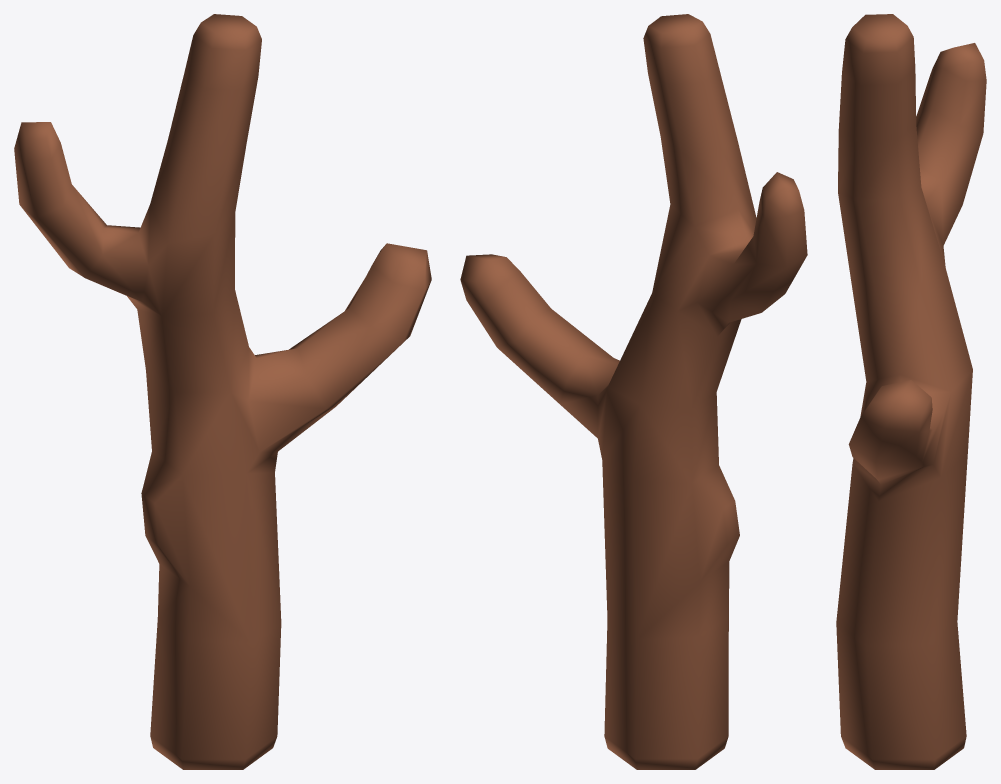
Rendered from Tree_Btm_D_02_LOD2.gltf.
The picture shows the model from 3 angles, left to right: view 1: azimuth 30°, elevation 25°; view 2: azimuth 150°, elevation 25°; view 3: azimuth 270°, elevation 25°; orthographic projection. The views are drawn at different scales.
Parts seen in each view (by area): view 1: Tree_Btm_D_02_LOD2_Cylinder.668; view 2: Tree_Btm_D_02_LOD2_Cylinder.668; view 3: Tree_Btm_D_02_LOD2_Cylinder.668.
Boxes of the visible parts, bbox=[...] form: Tree_Btm_D_02_LOD2_Cylinder.668: bbox=[14, 14, 431, 769]; Tree_Btm_D_02_LOD2_Cylinder.668: bbox=[460, 14, 807, 769]; Tree_Btm_D_02_LOD2_Cylinder.668: bbox=[836, 14, 986, 769].
Size of the model in its own units: 4.21 by 7.96 by 1.49.
1 material, 1 textured.
